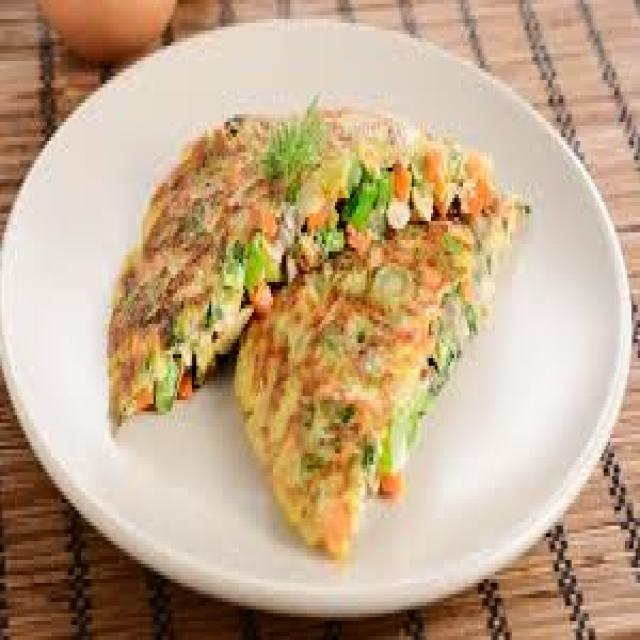telur_dadar: (102, 102, 529, 532)
